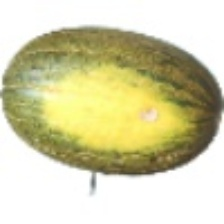honeydew: (22, 10, 188, 208)
